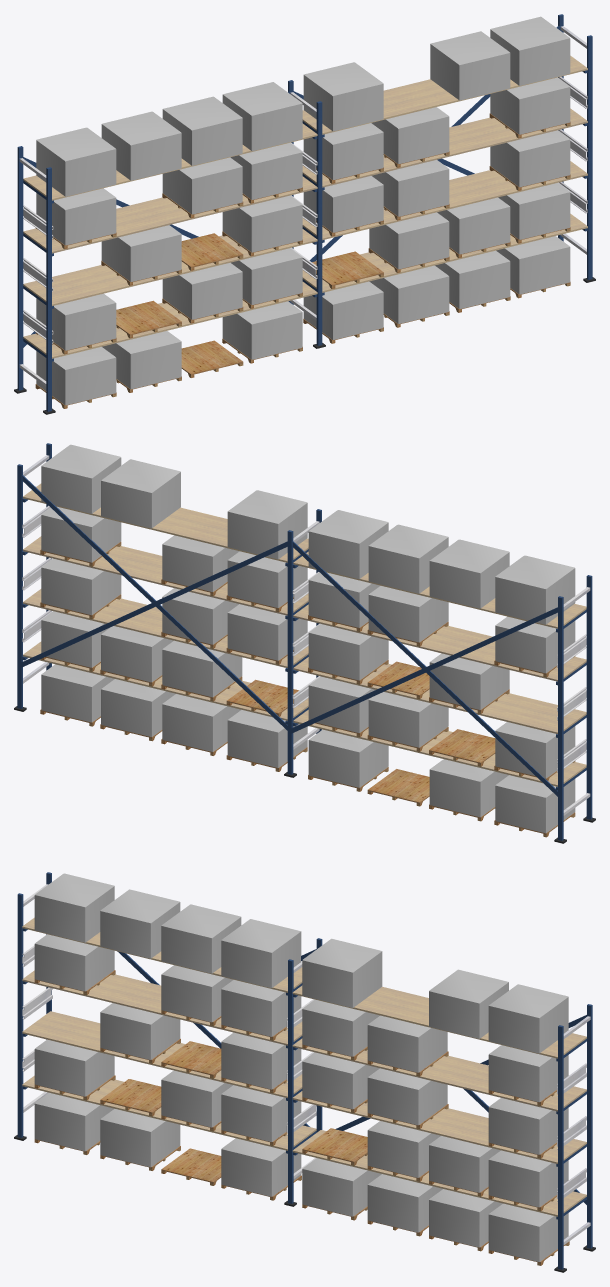
The model's file is BigShelves02Group4.FBX.
3 renders of one model, top to bottom at view 1: azimuth 30°, elevation 25°; view 2: azimuth 150°, elevation 25°; view 3: azimuth 330°, elevation 25°, orthographic.
Visible parts, largest first — view 1: Box_Pallet01, BigShelves02, BigShelvesWoodBox; view 2: Box_Pallet01, BigShelves02, BigShelvesWoodBox; view 3: Box_Pallet01, BigShelves02, BigShelvesWoodBox.
Part boxes in pixels (x1=…): Box_Pallet01: x1=36, y1=16, x2=570, y2=405; BigShelves02: x1=14, y1=14, x2=595, y2=414; BigShelvesWoodBox: x1=35, y1=113, x2=570, y2=408; Box_Pallet01: x1=41, y1=444, x2=575, y2=833; BigShelves02: x1=14, y1=443, x2=595, y2=843; BigShelvesWoodBox: x1=40, y1=542, x2=575, y2=837; Box_Pallet01: x1=34, y1=873, x2=568, y2=1261; BigShelves02: x1=14, y1=872, x2=595, y2=1272; BigShelvesWoodBox: x1=34, y1=970, x2=569, y2=1265.
Bounding box in the file's own units: 699 × 302 × 71.33.
